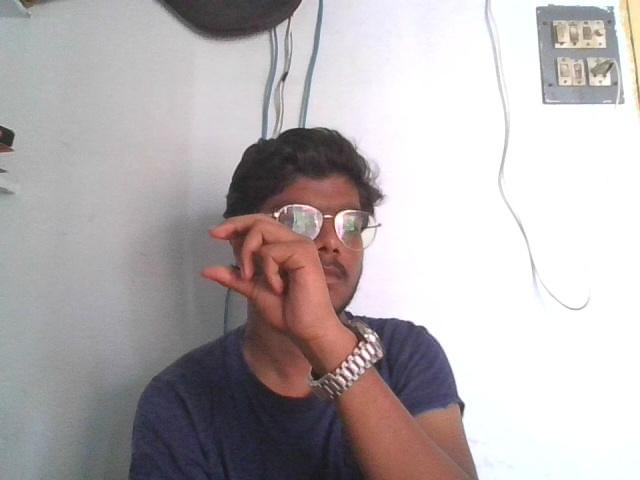No: (192, 211, 355, 335)
